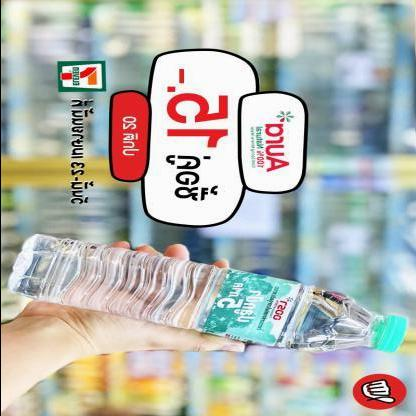bottle: (6, 230, 408, 358)
